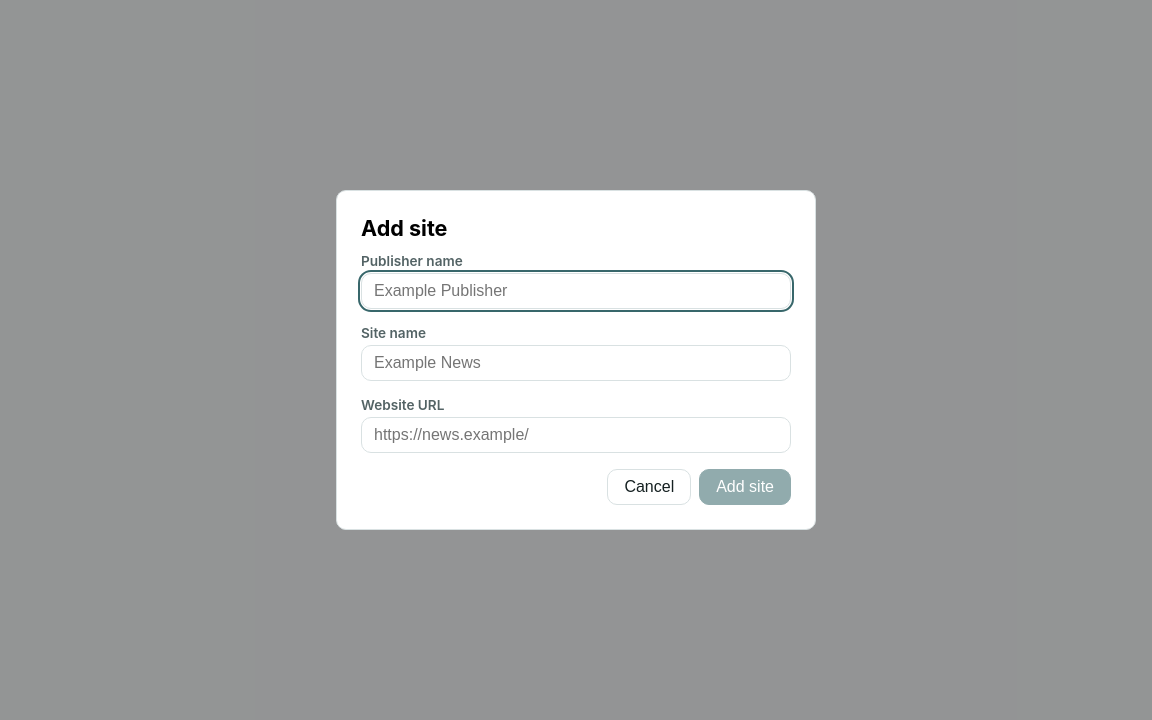
Scenario: AddSiteDialog › shows sanitized error for 400 blocked URL
Type "Ex" into the field labelled "Publisher name" at (576, 291), box [361, 273, 791, 309]
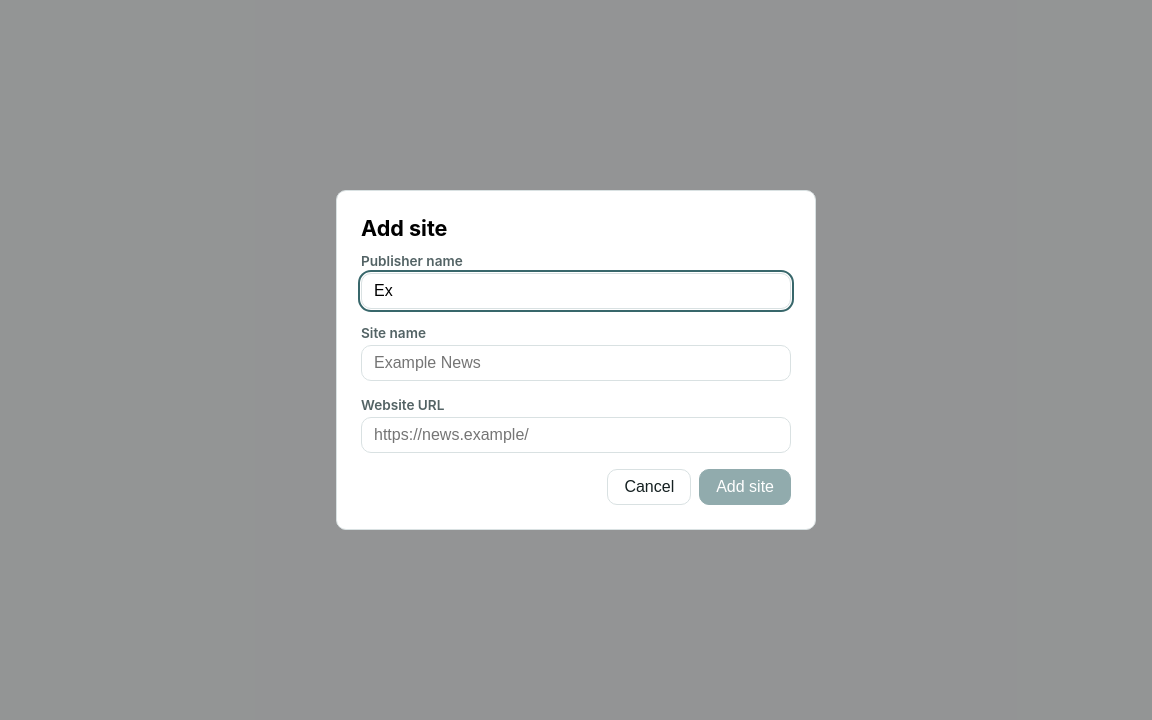
Type "Site" into the field labelled "Site name" at (576, 363), box [361, 345, 791, 381]
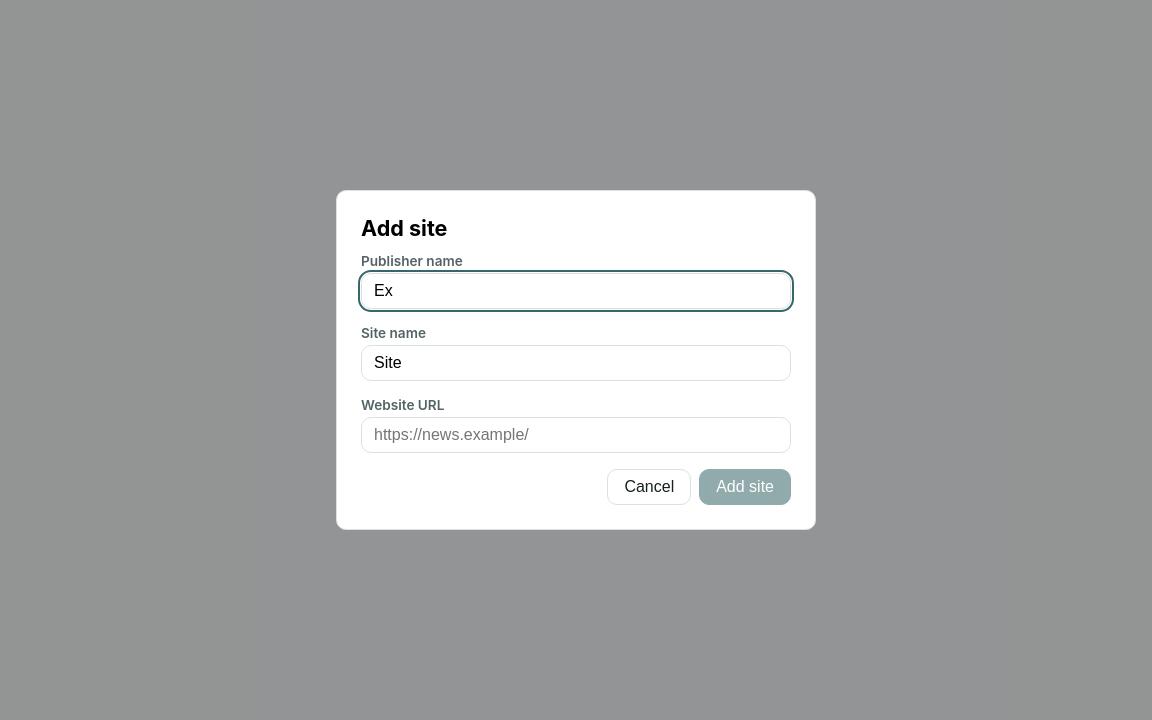
Type "http://127.0.0.1" into the field labelled "Website URL" at (576, 435), box [361, 417, 791, 453]
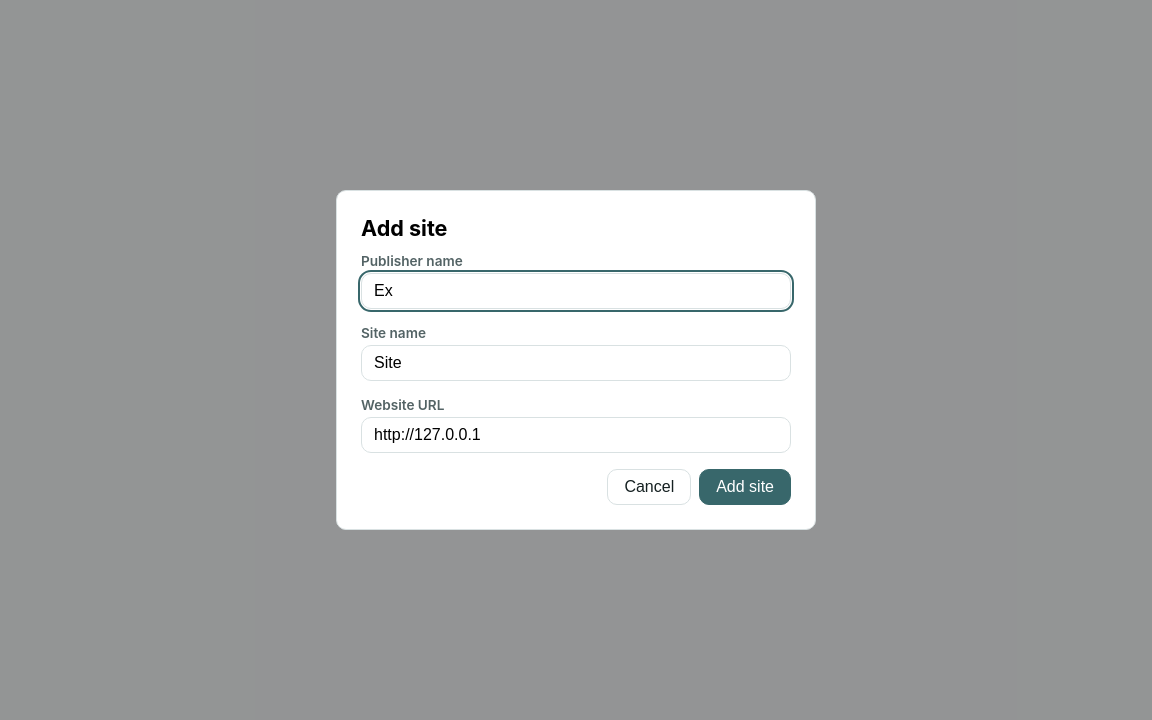
Submit the form, box [361, 215, 791, 505]
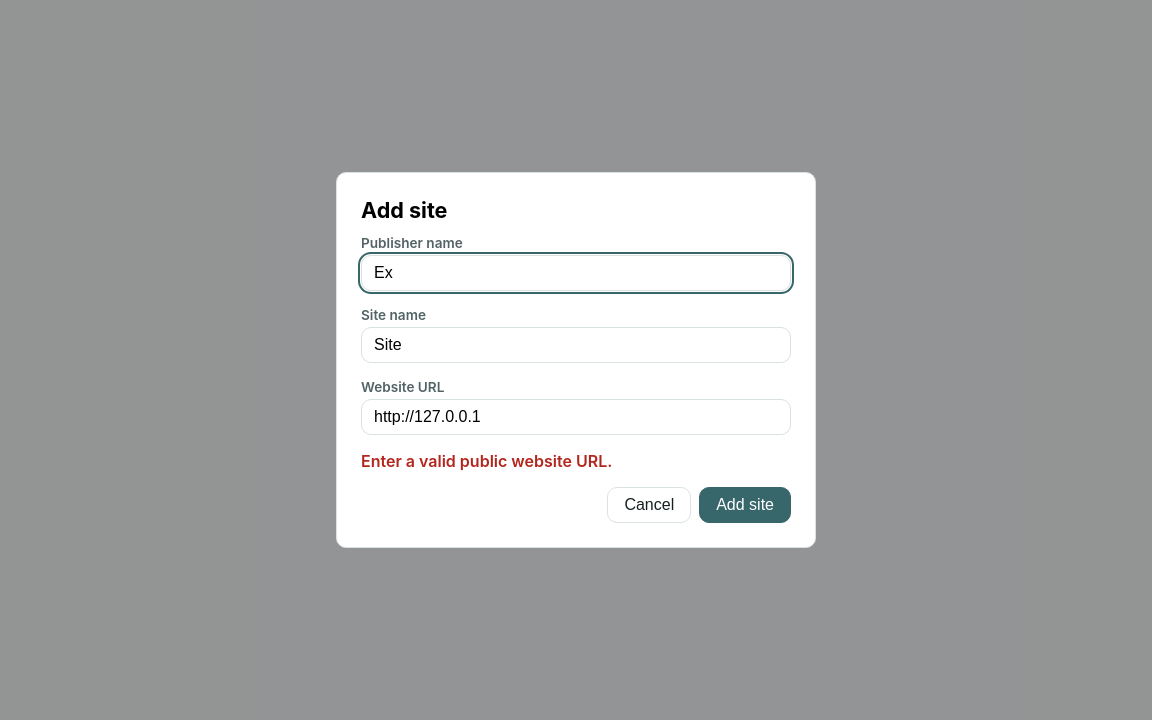
Now the text "Enter a valid public website URL." is shown, box [361, 451, 612, 471]
